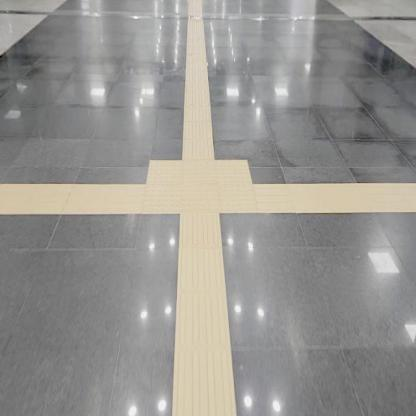podotacti: (120, 137, 271, 246), (172, 213, 238, 415), (258, 180, 415, 214), (0, 179, 139, 217), (181, 0, 213, 159)
